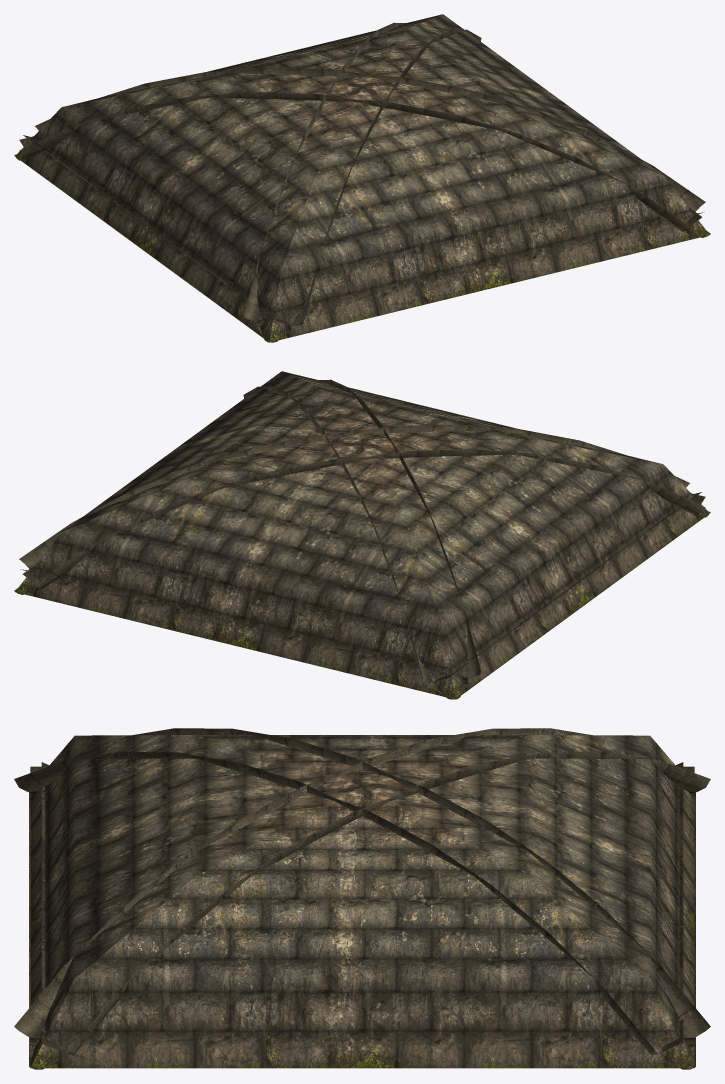
File: NC_ceiling.DAE
3 renders of one model, top to bottom at view 1: azimuth 30°, elevation 25°; view 2: azimuth 150°, elevation 25°; view 3: azimuth 270°, elevation 25°, orthographic. The views are drawn at different scales.
Parts seen in each view (by area): view 1: ceiling_bricks, ceiling_support; view 2: ceiling_bricks, ceiling_support; view 3: ceiling_bricks, ceiling_support.
Boxes of the visible parts, box(x1,y1,x2,y2) form: ceiling_bricks: box(15, 14, 709, 342); ceiling_support: box(14, 22, 710, 342); ceiling_bricks: box(15, 371, 709, 699); ceiling_support: box(14, 379, 710, 699); ceiling_bricks: box(30, 735, 694, 1068); ceiling_support: box(14, 728, 710, 1069).
Size of the model in its own units: 4.2 by 4.2 by 0.962.
